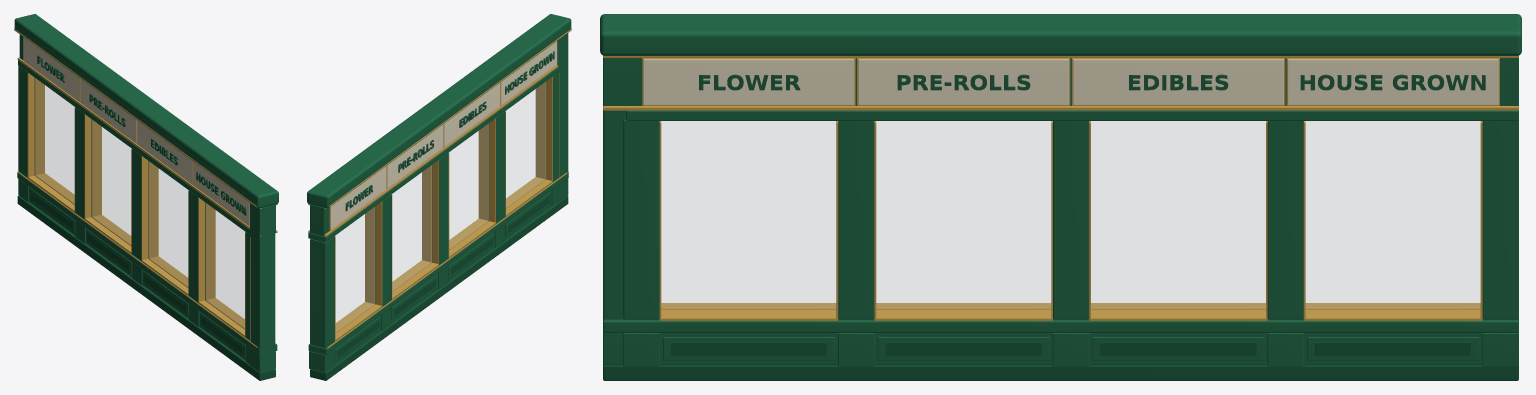
File: storefront.glb
3 renders of one model, left to right at view 1: azimuth 30°, elevation 25°; view 2: azimuth 150°, elevation 25°; view 3: azimuth 270°, elevation 25°, orthographic. The views are drawn at different scales.
Visible parts, largest first — view 1: Cap, Glass1, Glass0, Glass2, Glass3, EntrancePilaster, Plinth, Sill, Header, SignPanelOut3, Mullion1, SignPanelOut1 (+37 smaller); view 2: Cap, Glass0, Glass1, Glass2, Glass3, Plinth, Mullion4, Sill, EntrancePilaster, Header, SignPanelOut3, Mullion1 (+39 smaller); view 3: Cap, Glass2, Glass0, Glass1, Glass3, Plinth, Sill, Header, SignPanelIn0, SignPanelIn2, SignPanelIn1, SignPanelIn3 (+39 smaller).
Part boxes in pixels (box(x1,y1,x2,y2)): Cap: box(14, 14, 278, 208); Glass1: box(148, 161, 188, 287); Glass0: box(205, 203, 244, 328); Glass2: box(91, 120, 131, 245); Glass3: box(35, 78, 74, 203); EntrancePilaster: box(250, 203, 275, 372); Plinth: box(17, 195, 275, 380); Sill: box(17, 171, 277, 354); Header: box(18, 60, 249, 234); SignPanelOut3: box(23, 37, 79, 101); Mullion1: box(188, 190, 205, 302); SignPanelOut1: box(137, 120, 192, 184); Cap: box(307, 14, 571, 208); Glass0: box(506, 82, 545, 208); Glass1: box(449, 124, 488, 249); Glass2: box(392, 165, 431, 290); Glass3: box(336, 207, 375, 332); Plinth: box(310, 196, 568, 380); Mullion4: box(310, 236, 334, 348); Sill: box(308, 172, 568, 354); EntrancePilaster: box(557, 33, 568, 202); Header: box(308, 67, 558, 242); SignPanelOut3: box(330, 166, 386, 229); Mullion1: box(488, 111, 505, 222); Cap: box(600, 14, 1521, 55); Glass2: box(1091, 121, 1265, 309); Glass0: box(661, 121, 835, 309); Glass1: box(876, 121, 1050, 309); Glass3: box(1306, 121, 1480, 309); Plinth: box(603, 364, 1518, 380); Sill: box(603, 318, 1518, 332); Header: box(626, 110, 1518, 120); SignPanelIn0: box(643, 59, 854, 104); SignPanelIn2: box(1073, 59, 1283, 104); SignPanelIn1: box(858, 59, 1069, 104); SignPanelIn3: box(1287, 59, 1498, 104).
Size of the model in its own units: 0.316 by 2.48 by 5.9.
